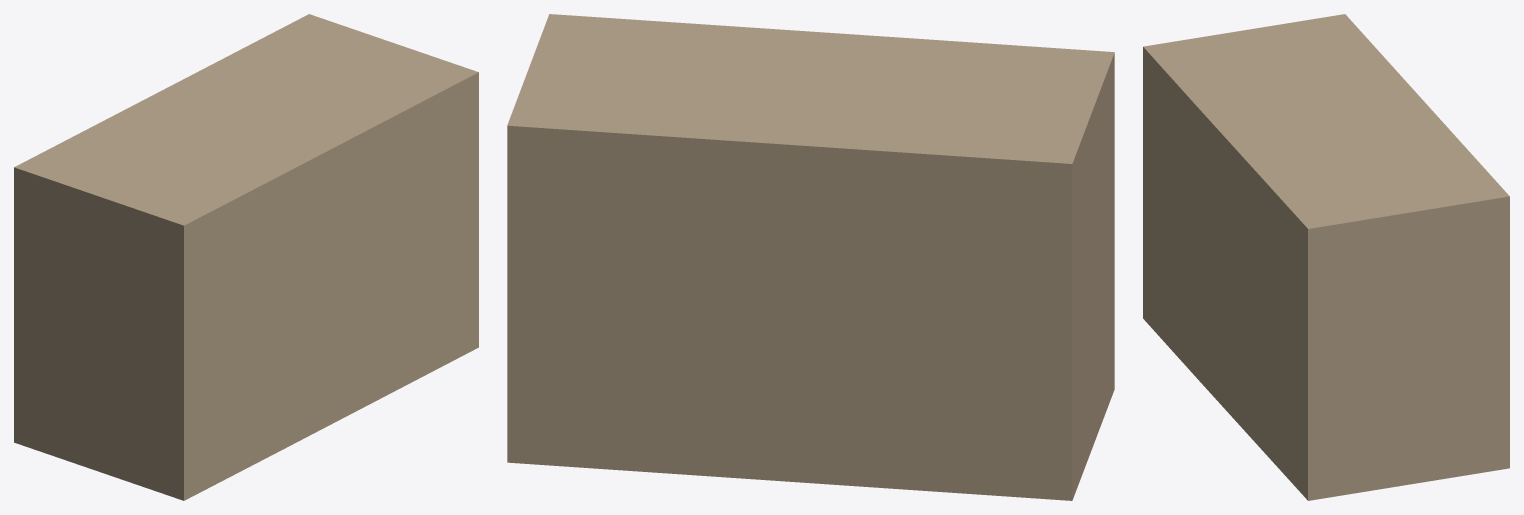
Rendered from bld_107715915.dae.
The picture shows the model from 3 angles, left to right: view 1: azimuth 30°, elevation 25°; view 2: azimuth 150°, elevation 25°; view 3: azimuth 270°, elevation 25°; orthographic projection. The views are drawn at different scales.
Parts seen in each view (by area): view 1: bld_107715915; view 2: bld_107715915; view 3: bld_107715915.
Part boxes in pixels (x1=…): bld_107715915: x1=14, y1=14, x2=478, y2=500; bld_107715915: x1=507, y1=14, x2=1114, y2=500; bld_107715915: x1=1143, y1=14, x2=1509, y2=500.
Bounding box in the file's own units: 13.57 × 9.78 × 8.
